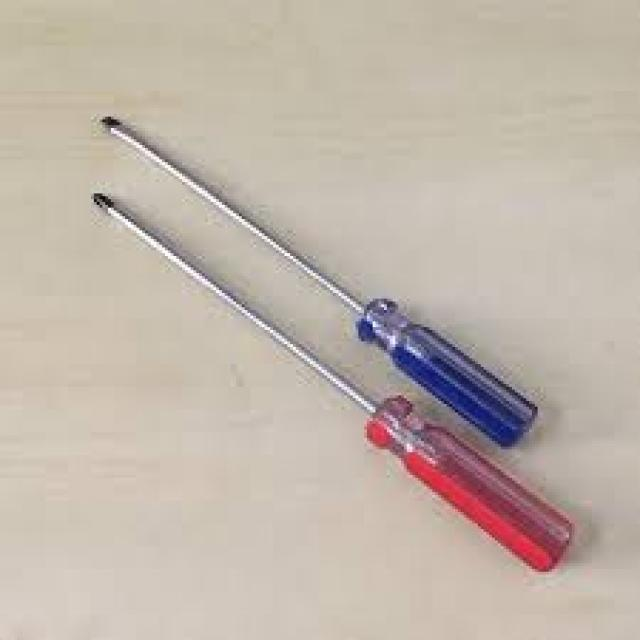screwdriver: (88, 187, 586, 588), (97, 105, 552, 455)
